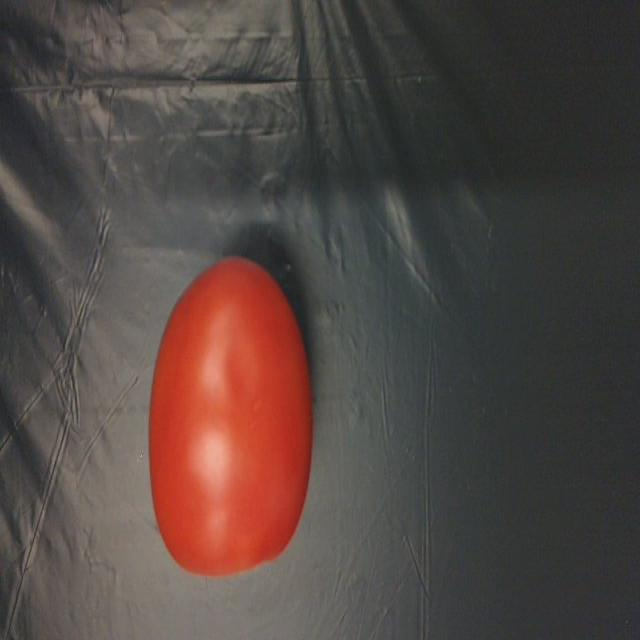kirmizi: (142, 251, 307, 579)
